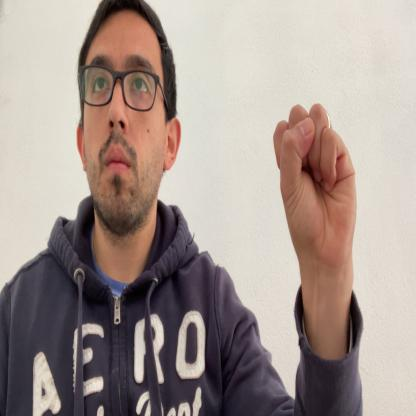S: (272, 103, 357, 264)
